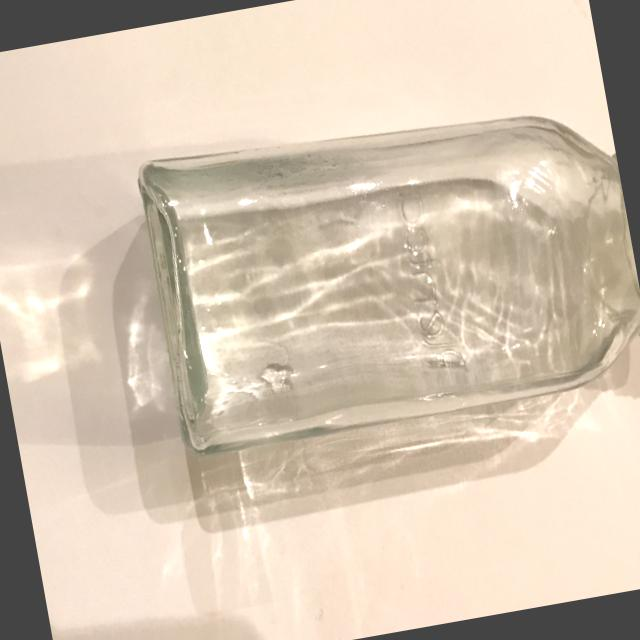Glass: (91, 64, 640, 536)
